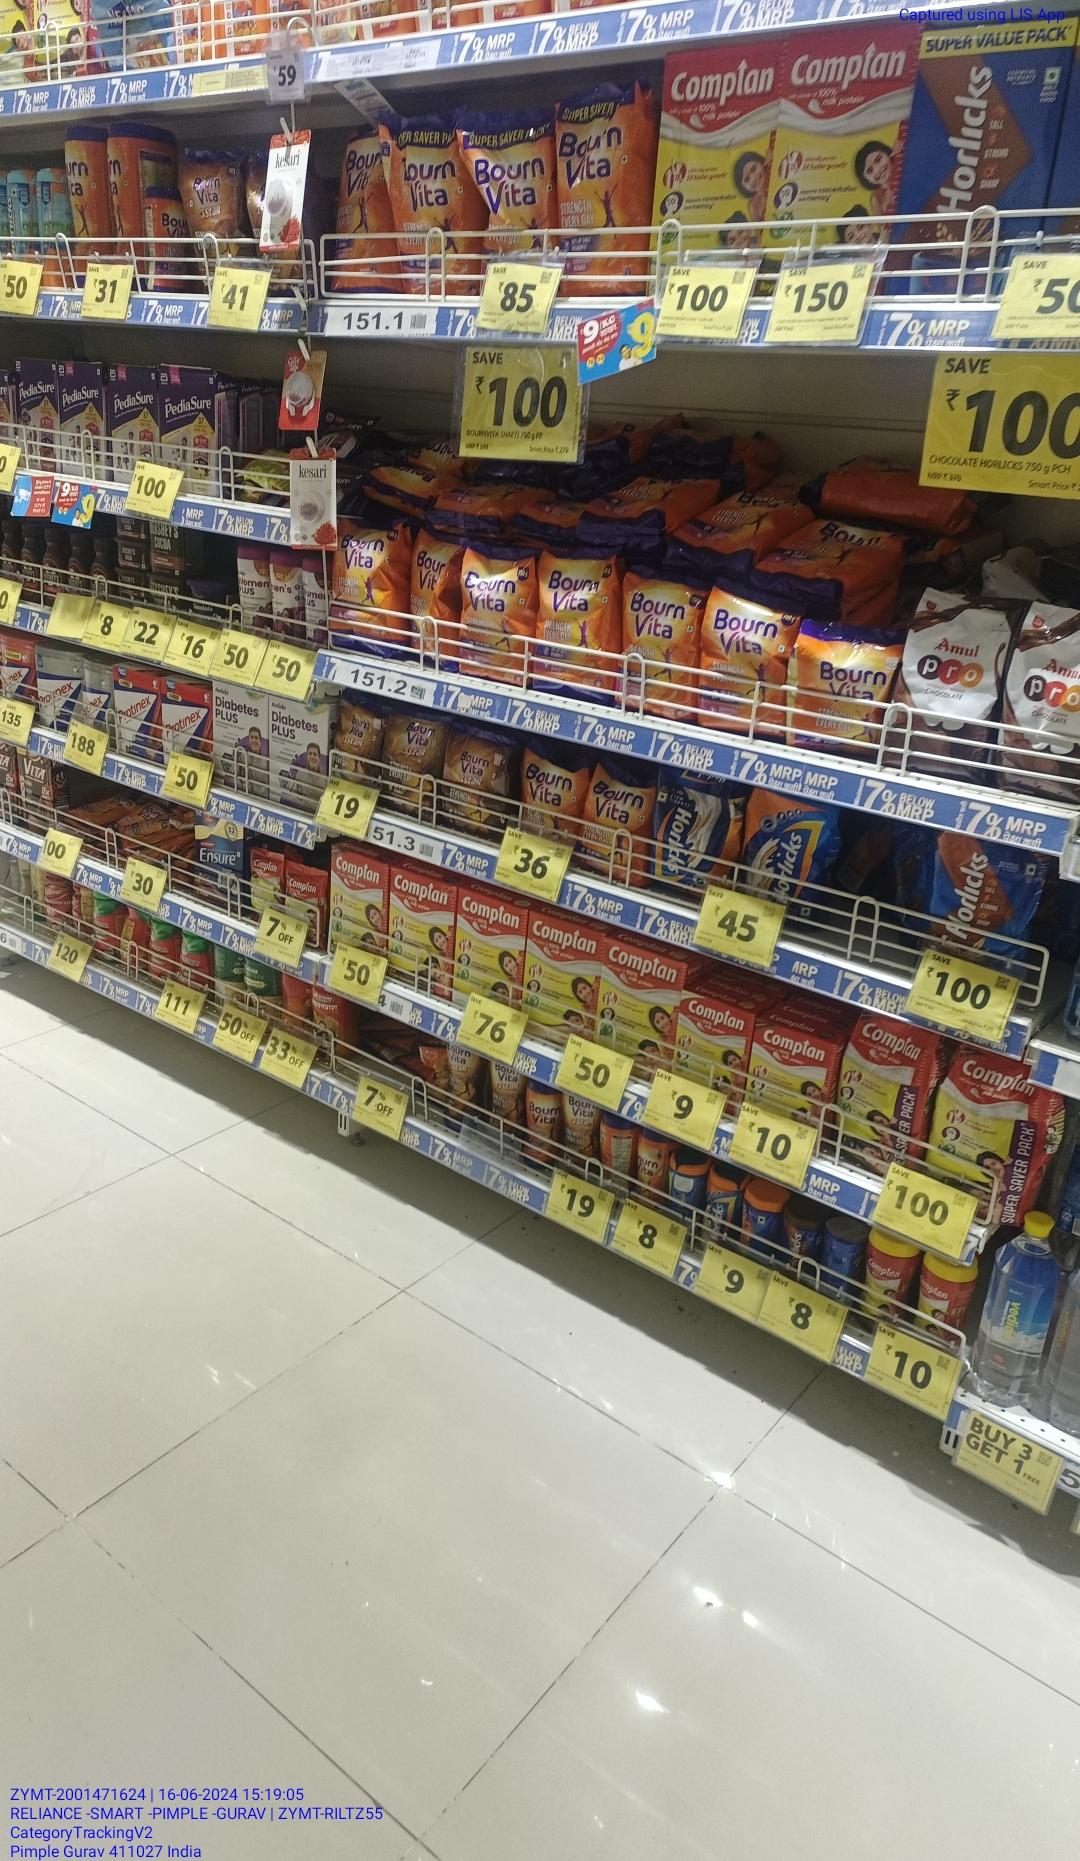PROTINEX_CHOCOLATE_400_G_JAR: (0, 634, 36, 702)
PROTINEX_ORIGINAL_400_G_JAR: (37, 646, 80, 730), (84, 652, 114, 735)
